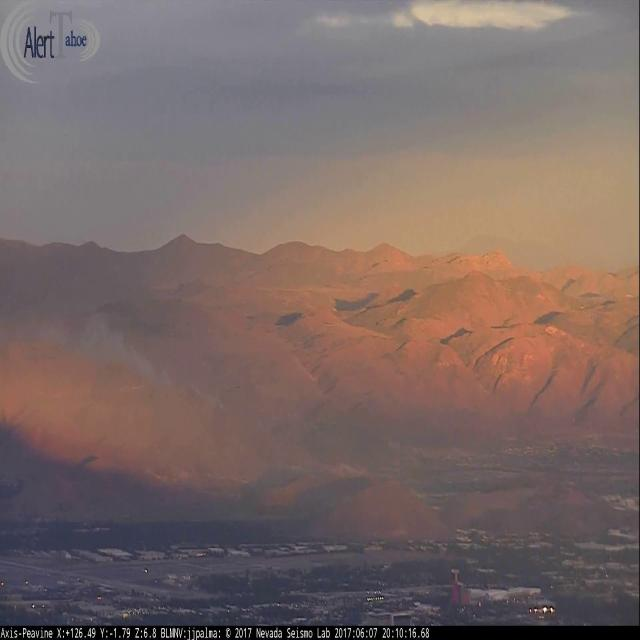smoke: (0, 301, 176, 394)
